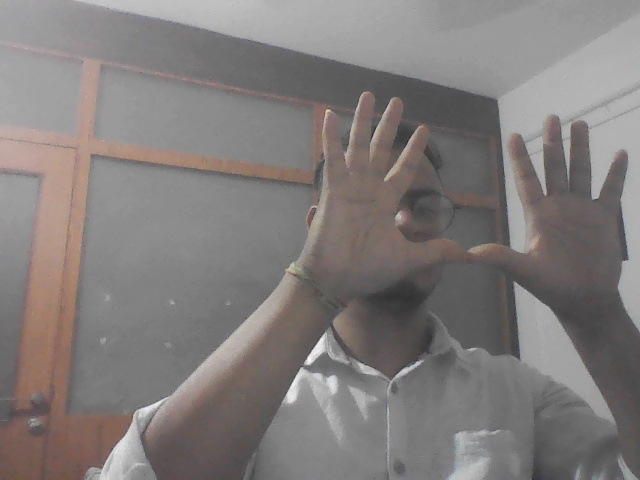Cheers: (303, 88, 640, 321)
